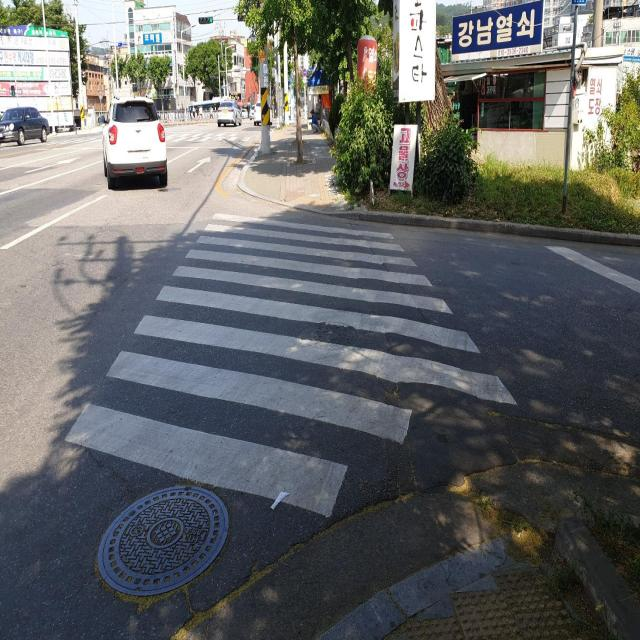횡단보도: (61, 206, 521, 522), (168, 129, 257, 149)
